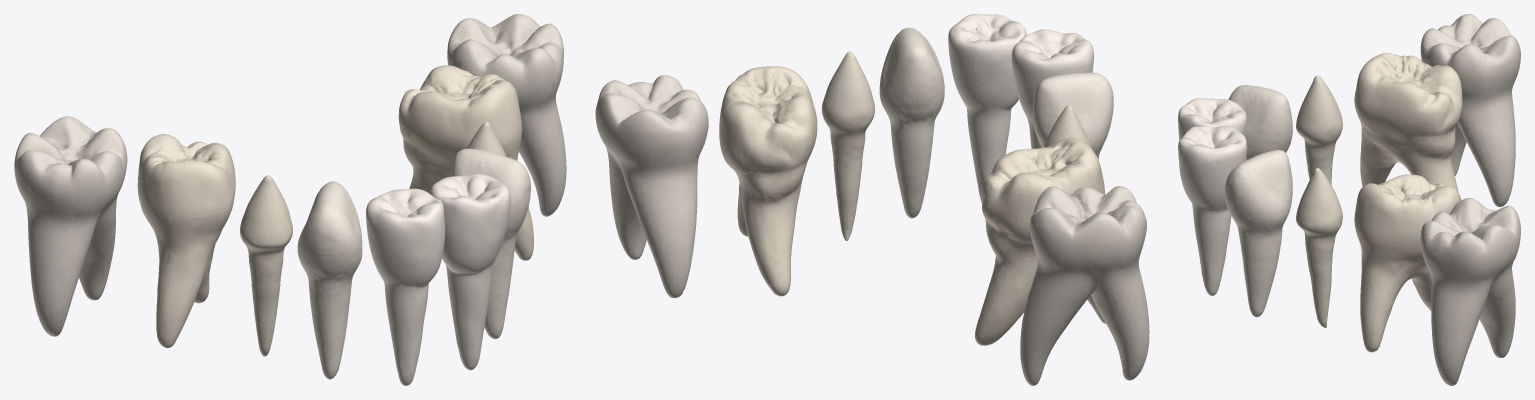
File: inferior_temporal_optimizado.glb
3 views of the same model, side by side, from view 1: azimuth 30°, elevation 25°; view 2: azimuth 150°, elevation 25°; view 3: azimuth 270°, elevation 25° (orthographic). The views are drawn at different scales.
Visible parts, largest first — view 1: diente_75, diente_74, diente_85, diente_84, diente_71, diente_81, diente_72, diente_73, diente_82, diente_83; view 2: diente_75, diente_85, diente_84, diente_74, diente_81, diente_82, diente_83, diente_72, diente_71, diente_73; view 3: diente_85, diente_74, diente_75, diente_84, diente_82, diente_81, diente_83, diente_72, diente_73, diente_71.
Part boxes in pixels (box(x1,y1,x2,y2)): diente_75: box(14, 116, 127, 336); diente_74: box(137, 134, 235, 348); diente_85: box(447, 14, 566, 216); diente_84: box(398, 65, 533, 260); diente_71: box(366, 188, 445, 385); diente_81: box(429, 173, 511, 370); diente_72: box(297, 181, 362, 379); diente_73: box(240, 175, 292, 356); diente_82: box(450, 148, 530, 339); diente_83: box(467, 122, 506, 156); diente_75: box(1020, 186, 1149, 385); diente_85: box(595, 75, 708, 298); diente_84: box(719, 66, 817, 296); diente_74: box(975, 137, 1105, 345); diente_81: box(948, 14, 1026, 204); diente_82: box(879, 27, 944, 218); diente_83: box(821, 51, 874, 240); diente_72: box(1032, 72, 1113, 159); diente_71: box(1011, 29, 1093, 148); diente_73: box(1044, 105, 1091, 148); diente_85: box(1420, 198, 1520, 385); diente_74: box(1354, 53, 1462, 192); diente_75: box(1420, 14, 1520, 206); diente_84: box(1354, 174, 1461, 352); diente_82: box(1224, 150, 1292, 317); diente_81: box(1178, 126, 1247, 295); diente_83: box(1296, 168, 1342, 327); diente_72: box(1228, 85, 1292, 160); diente_73: box(1296, 75, 1342, 184); diente_71: box(1178, 98, 1247, 140).
Bounding box in the file's own units: 5.81 × 1.9 × 3.7.
5 materials, 5 textured.
